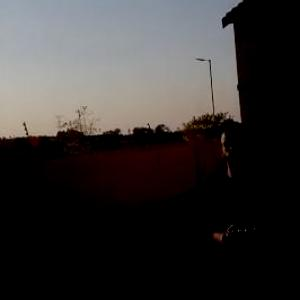follow: (192, 118, 291, 299)
